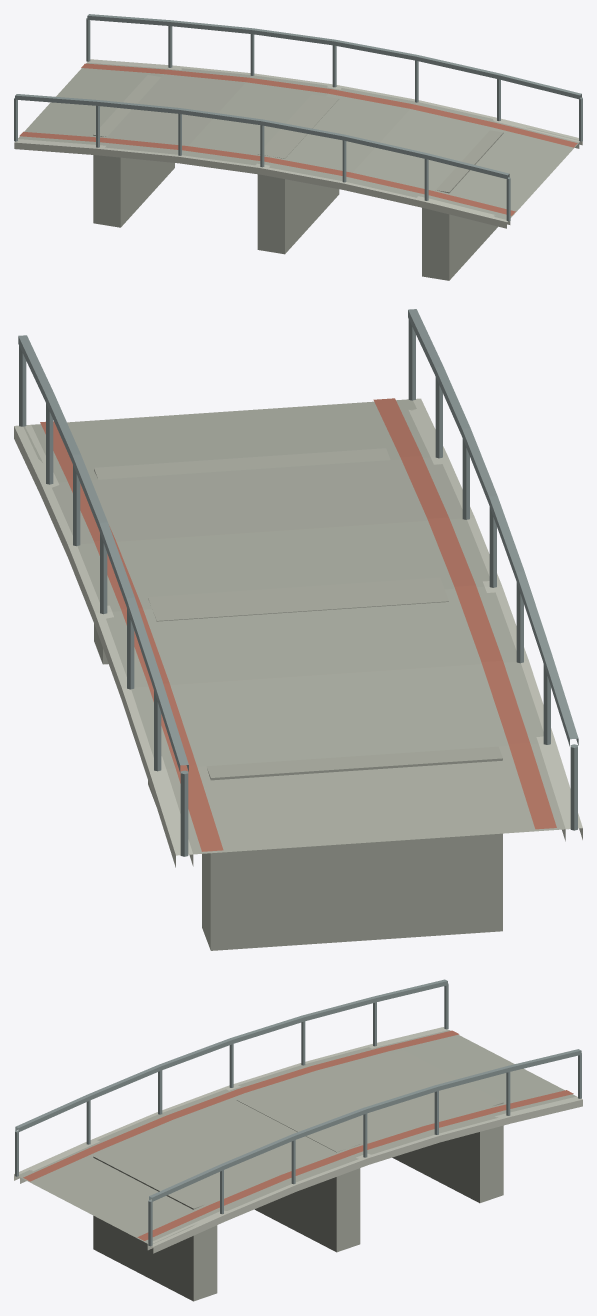
Rendered from infra-lake-bridge-834160220.glb.
The picture shows the model from 3 angles, top to bottom: view 1: azimuth 30°, elevation 25°; view 2: azimuth 150°, elevation 25°; view 3: azimuth 270°, elevation 25°; orthographic projection. The views are drawn at different scales.
Visible parts, largest first — view 1: infra-lake-bridge-834160220; view 2: infra-lake-bridge-834160220; view 3: infra-lake-bridge-834160220.
Boxes of the visible parts, x1,y1,x2,y2 form: infra-lake-bridge-834160220: (14, 14, 582, 280); infra-lake-bridge-834160220: (14, 309, 582, 950); infra-lake-bridge-834160220: (14, 979, 582, 1301).
Size of the model in its own units: 11.05 by 3.48 by 12.08.
